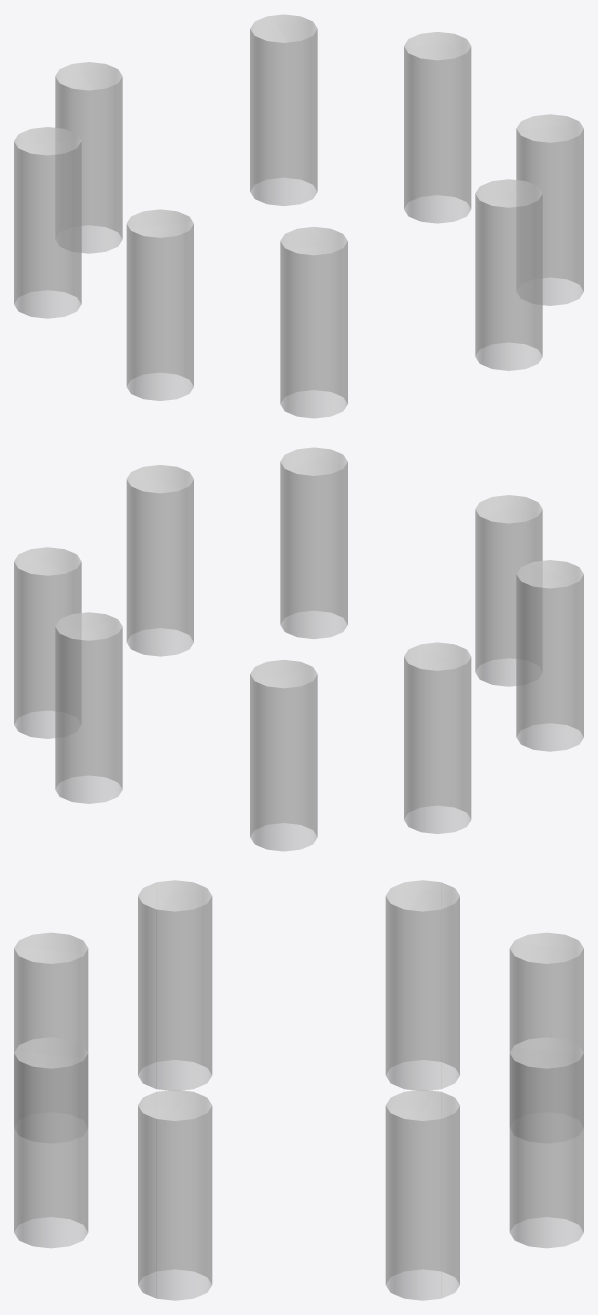
File: liquefactor_fluid.obj
3 views of the same model, one above another, from view 1: azimuth 30°, elevation 25°; view 2: azimuth 150°, elevation 25°; view 3: azimuth 270°, elevation 25° (orthographic). The views are drawn at different scales.
Parts seen in each view (by area): view 1: Fluid; view 2: Fluid; view 3: Fluid.
Boxes of the visible parts, x1,y1,x2,y2 form: Fluid: [14, 14, 583, 418]; Fluid: [14, 447, 583, 851]; Fluid: [14, 880, 583, 1300].
Bounding box in the file's own units: 2.88 × 1 × 2.88.
